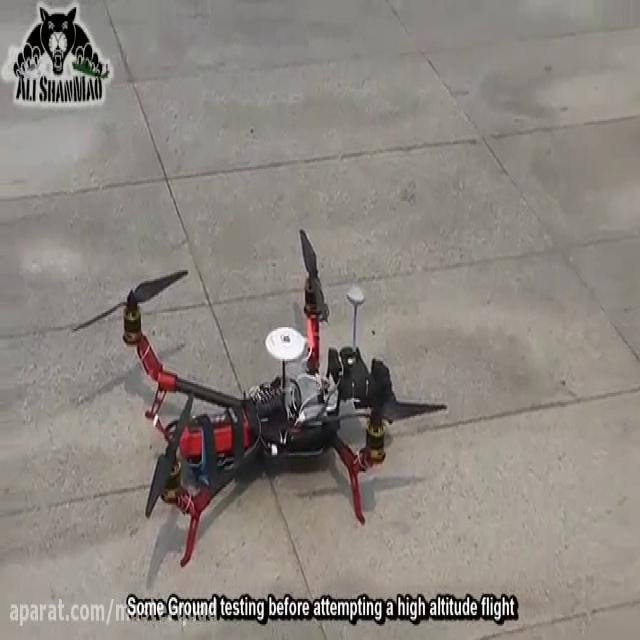drone: (64, 222, 449, 576)
